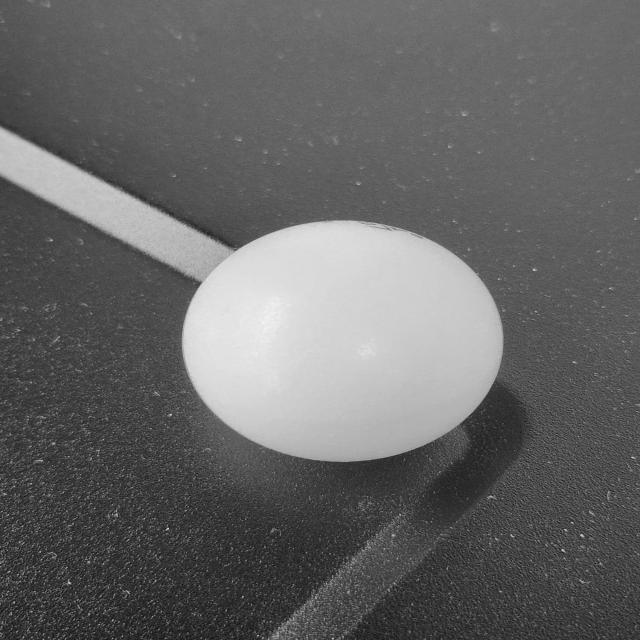ping-pong-ball: (180, 212, 516, 470)
